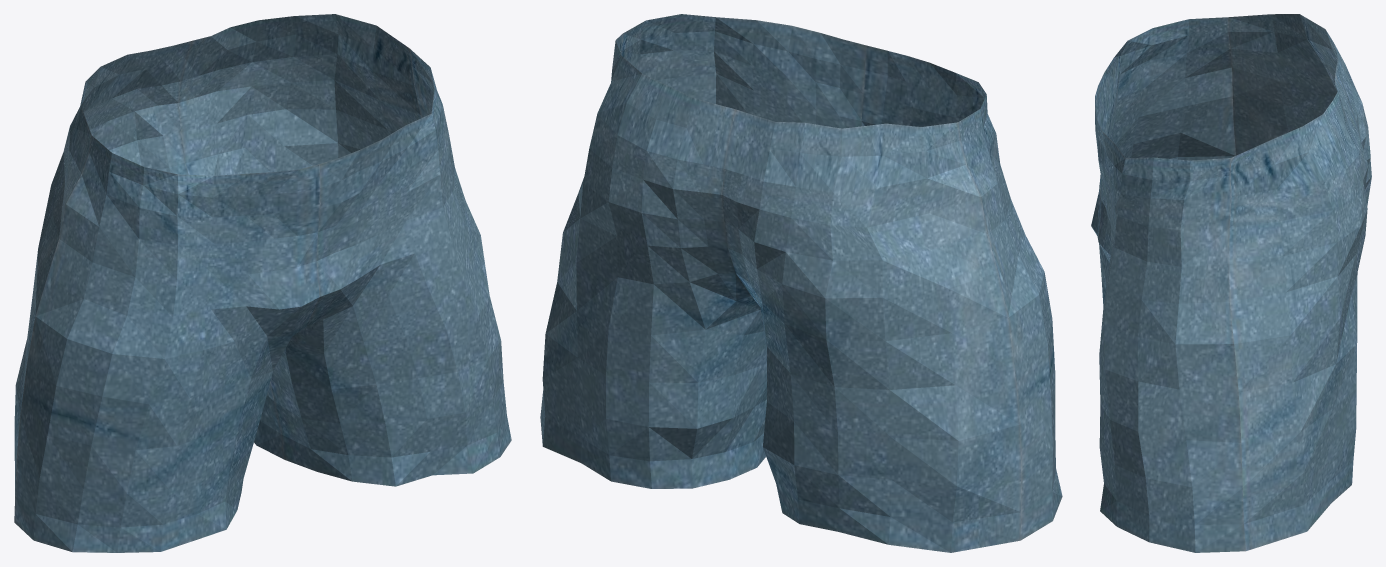
The model's file is mhw_mindfront_male_swimming_trunks_01.glb.
3 views of the same model, side by side, from view 1: azimuth 30°, elevation 25°; view 2: azimuth 150°, elevation 25°; view 3: azimuth 270°, elevation 25° (orthographic). The views are drawn at different scales.
Parts seen in each view (by area): view 1: mhw_mindfront_male_swimming_trunks_01; view 2: mhw_mindfront_male_swimming_trunks_01; view 3: mhw_mindfront_male_swimming_trunks_01.
Boxes of the visible parts, box(x1,y1,x2,y2) form: mhw_mindfront_male_swimming_trunks_01: box(14, 14, 511, 552); mhw_mindfront_male_swimming_trunks_01: box(540, 14, 1062, 552); mhw_mindfront_male_swimming_trunks_01: box(1091, 14, 1371, 552).
Bounding box in the file's own units: 0.4677 × 0.3797 × 0.2535.
Materials: 1 (1 with a texture image).
